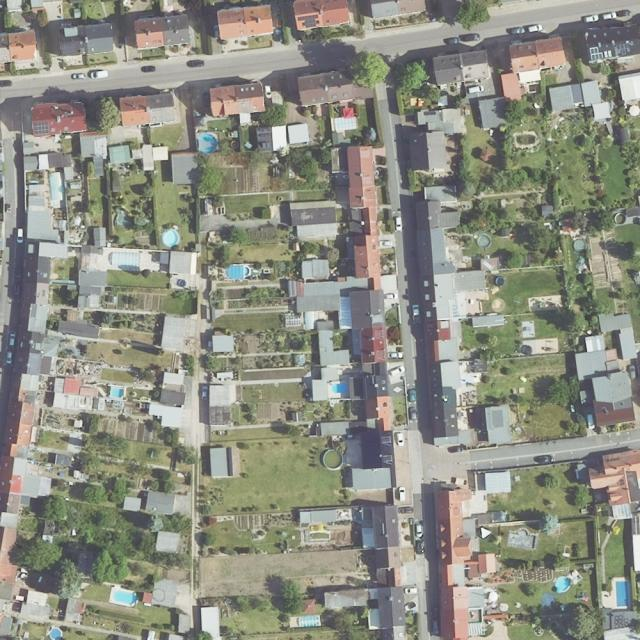PV: (298, 14, 317, 28), (60, 42, 76, 56), (34, 122, 48, 135), (590, 47, 603, 61), (616, 43, 628, 55)
